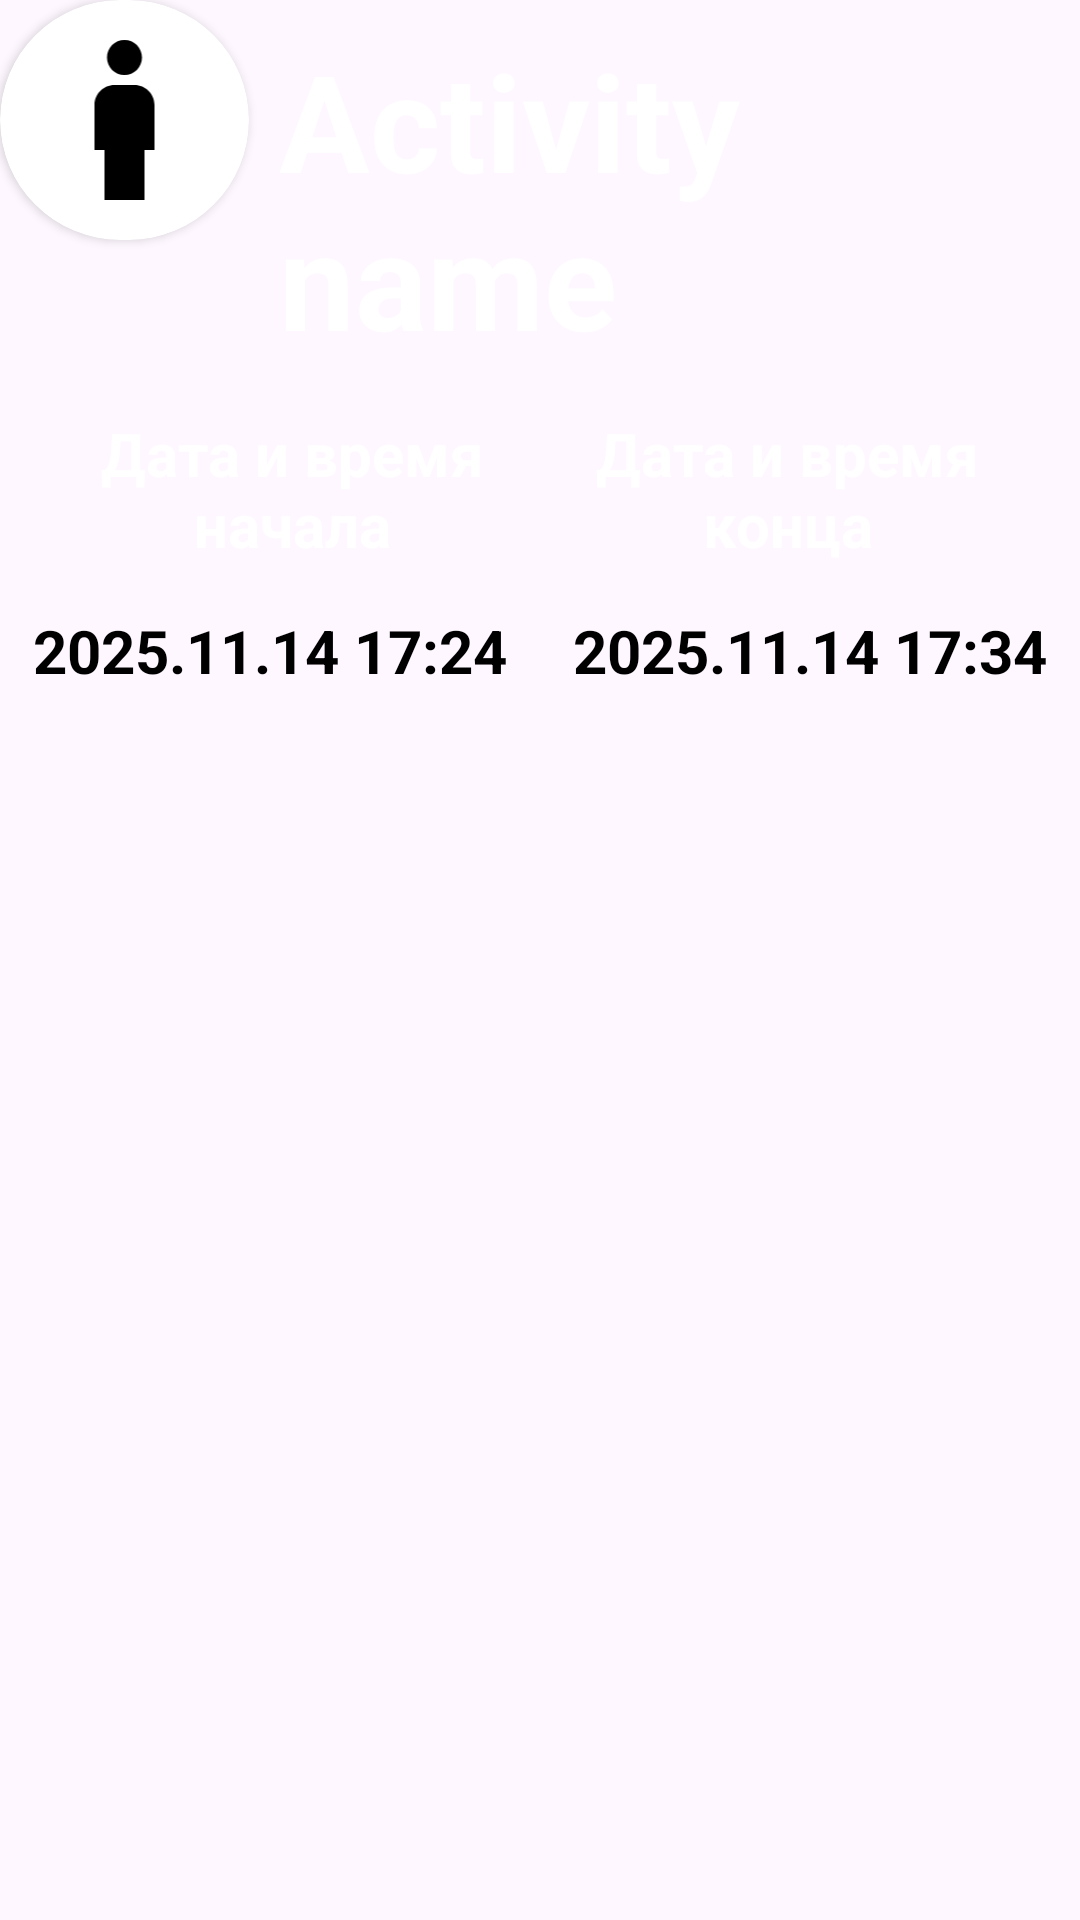

Icon click points for this 1080*1920 phone screenshot, format [x,y]:
boy: [124,120]
